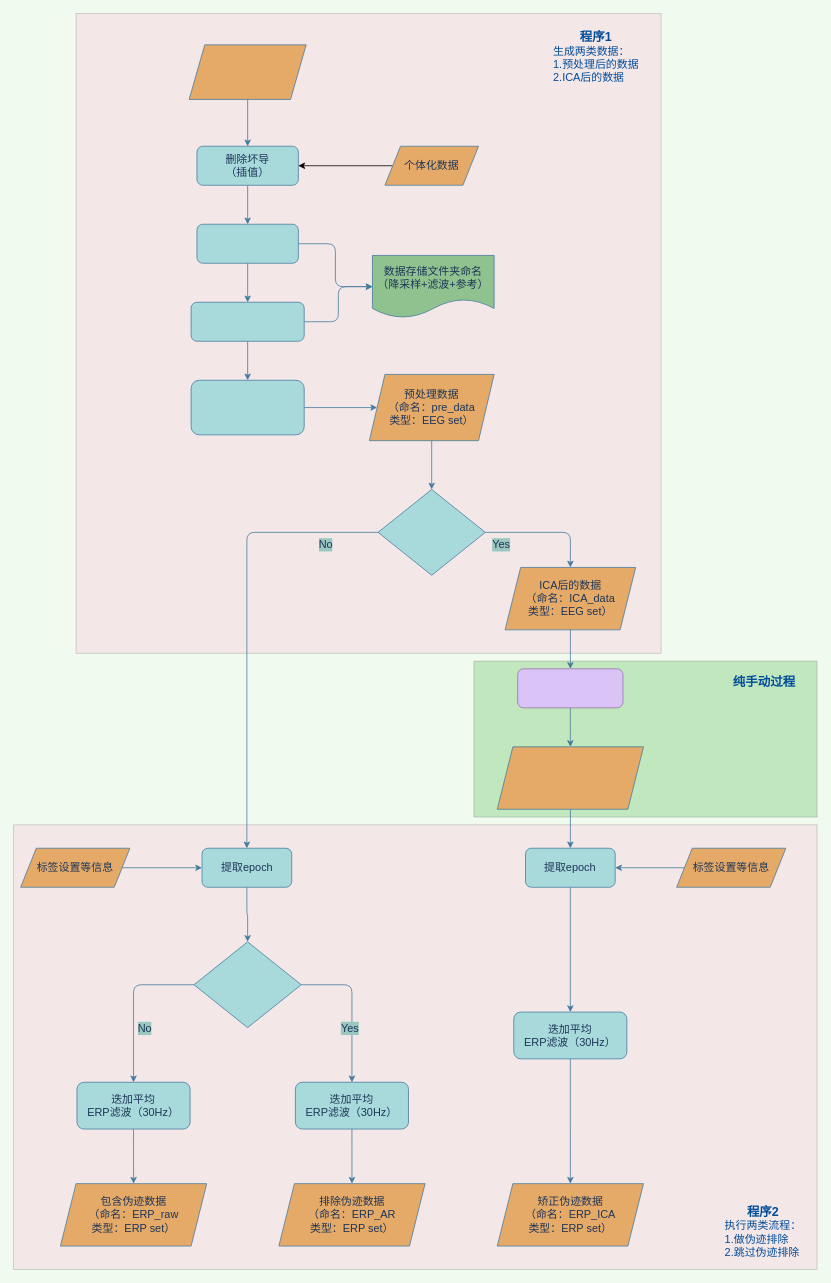
Some shapes in this 831 by 1283 pixel diagram are drawn without their labels. Here are the shapes that lost their labels. From the top down, the box of each, then its label:
(188, 44, 306, 99): 原始数据 （类型：.cnt data）
(196, 223, 298, 263): EEG滤波 （0.1~30Hz）
(190, 301, 304, 341): 降采样（200Hz） 换参考（M1 M2）
(190, 379, 304, 435): 删除坏段 （通过标签截取主要的任务期间）
(377, 489, 485, 575): 伪迹矫正？ （ICA）
(517, 668, 623, 708): 手动筛选ICA成分
(496, 746, 644, 809): ICA去成分后的数据 （命名：after_ICA_data 类型：EEG set）
(193, 941, 301, 1028): 伪迹排除？
